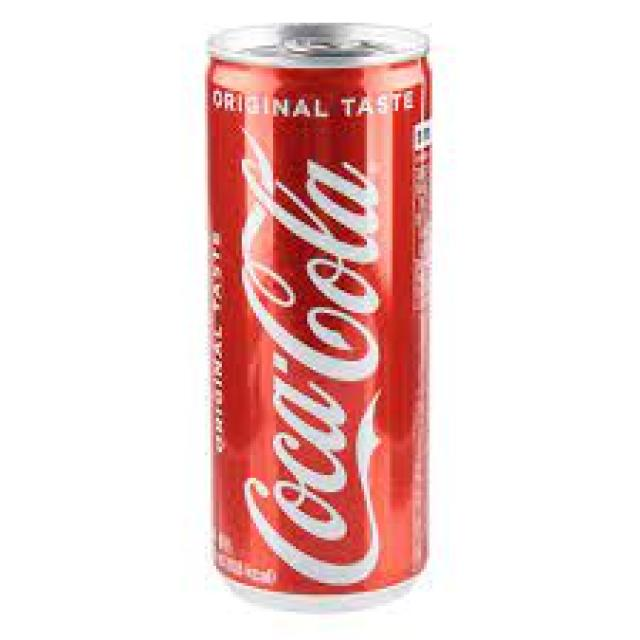Coca-Cola: (197, 16, 444, 614)
